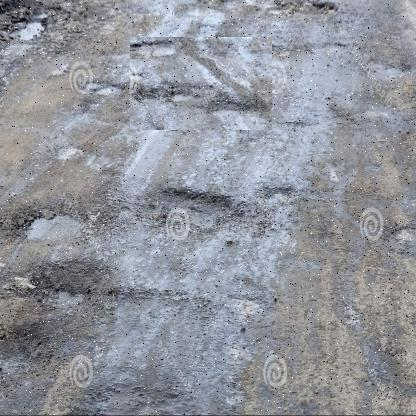damage: (129, 37, 272, 131), (128, 169, 247, 259), (3, 180, 107, 258)
